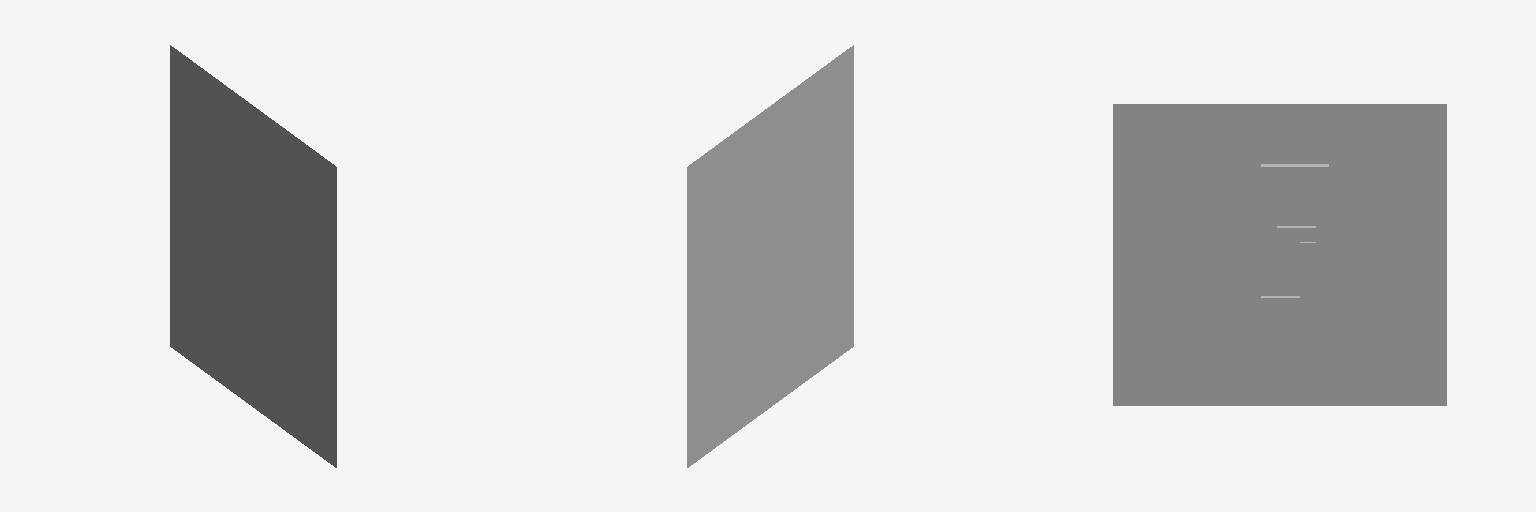
Rendered from cifra5.obj.
3 renders of one model, left to right at view 1: azimuth 30°, elevation 25°; view 2: azimuth 150°, elevation 25°; view 3: azimuth 270°, elevation 25°, orthographic.
Parts seen in each view (by area): view 1: Plane; view 2: Plane; view 3: Plane, Cube_Cube.001, Cube.003_Cube.004, Cube.004_Cube.005, Cube.001_Cube.002, Cube.002_Cube.003.
Boxes of the visible parts, x1=… form: Plane: x1=170, y1=45, x2=336, y2=467; Plane: x1=687, y1=45, x2=853, y2=467; Plane: x1=1113, y1=104, x2=1446, y2=405; Cube_Cube.001: x1=1261, y1=164, x2=1328, y2=180; Cube.003_Cube.004: x1=1300, y1=242, x2=1315, y2=297; Cube.004_Cube.005: x1=1261, y1=296, x2=1315, y2=311; Cube.001_Cube.002: x1=1261, y1=226, x2=1315, y2=241; Cube.002_Cube.003: x1=1261, y1=181, x2=1276, y2=228.
Bounding box in the file's own units: 0.0363 × 2 × 2.